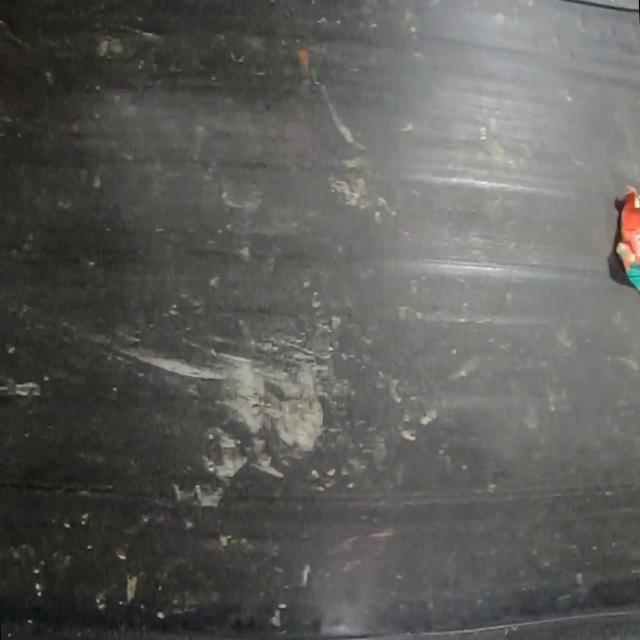cardboard: (612, 183, 640, 297)
